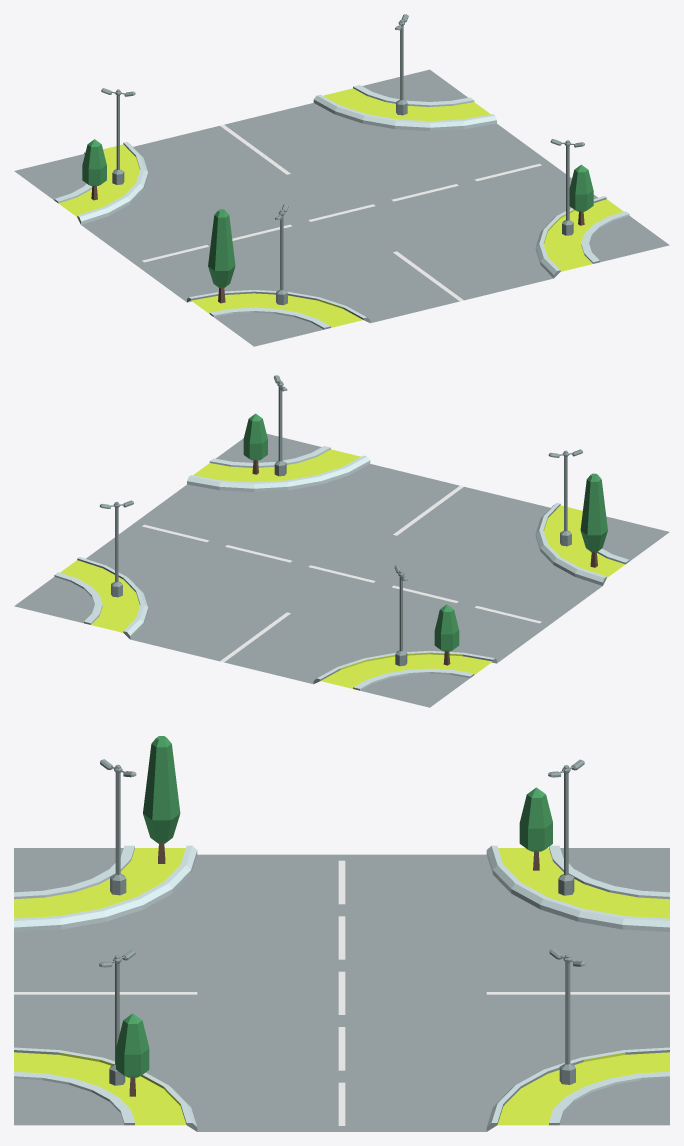
File: Tile_Road_Crosroad_Base.fbx
3 views of the same model, one above another, from view 1: azimuth 30°, elevation 25°; view 2: azimuth 150°, elevation 25°; view 3: azimuth 270°, elevation 25° (orthographic). The views are drawn at different scales.
Visible parts, largest first — view 1: Plane.008; view 2: Plane.008; view 3: Plane.008.
Boxes of the visible parts, left/top/right/bottom form: Plane.008: left=14, top=14, right=669, bottom=346; Plane.008: left=14, top=375, right=669, bottom=707; Plane.008: left=14, top=736, right=669, bottom=1131.
Bounding box in the file's own units: 250 × 55.99 × 250.
